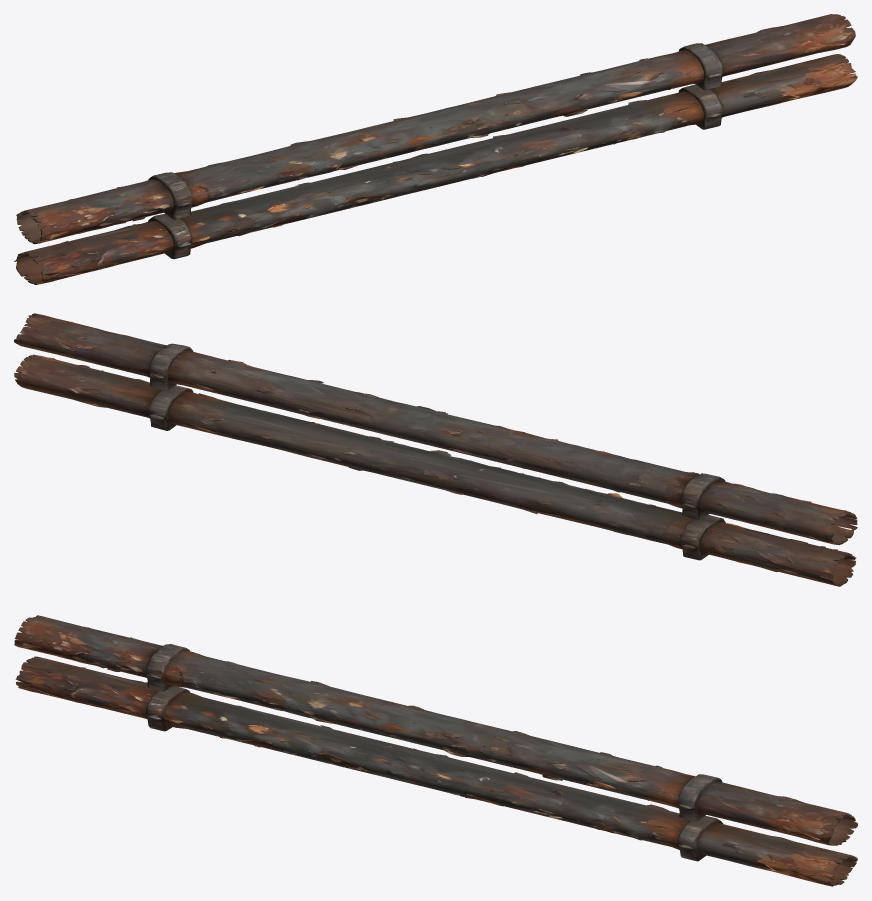
Rendered from line_pipes_idle.glb.
3 renders of one model, top to bottom at view 1: azimuth 30°, elevation 25°; view 2: azimuth 150°, elevation 25°; view 3: azimuth 330°, elevation 25°, orthographic.
Parts seen in each view (by area): view 1: tripo_node_e55d6e65-7d3a-4ff8-b2f0-29f546b1e997; view 2: tripo_node_e55d6e65-7d3a-4ff8-b2f0-29f546b1e997; view 3: tripo_node_e55d6e65-7d3a-4ff8-b2f0-29f546b1e997.
Part boxes in pixels (box(x1,y1,x2,y2)): tripo_node_e55d6e65-7d3a-4ff8-b2f0-29f546b1e997: box(14, 14, 857, 284); tripo_node_e55d6e65-7d3a-4ff8-b2f0-29f546b1e997: box(14, 313, 857, 586); tripo_node_e55d6e65-7d3a-4ff8-b2f0-29f546b1e997: box(14, 615, 857, 886).
Size of the model in its own units: 3 by 0.2504 by 0.2.
Materials: 1 (1 with a texture image).
